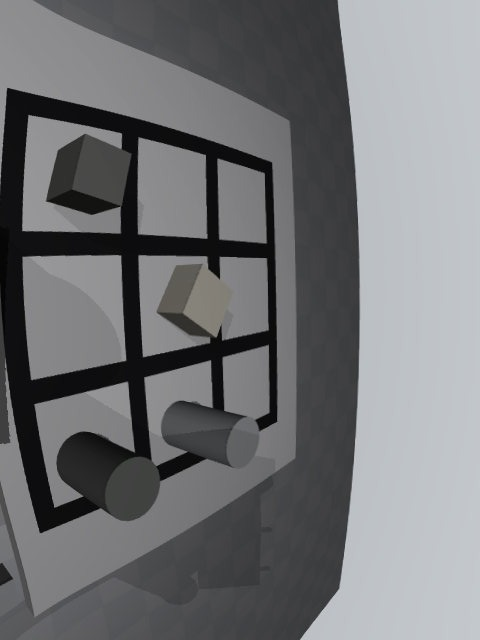can: (161, 401, 259, 469)
cube: (46, 134, 132, 215)
cylinder: (56, 431, 161, 521)
foam: (156, 264, 233, 337)
